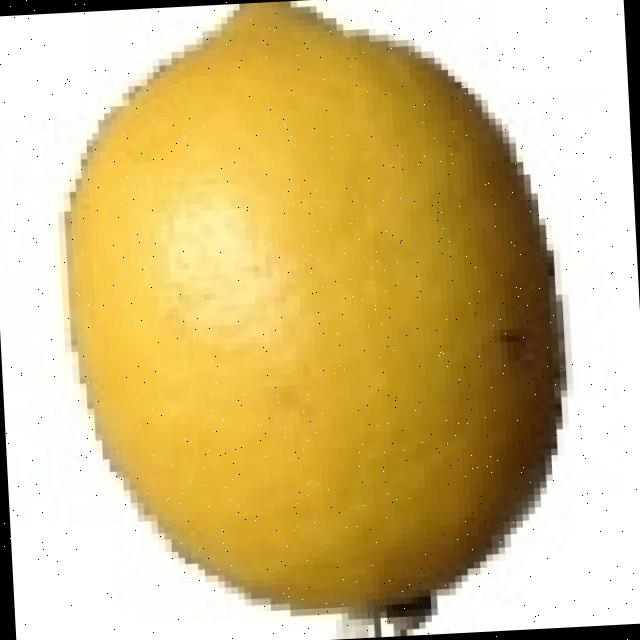lemon: (67, 1, 560, 616)
